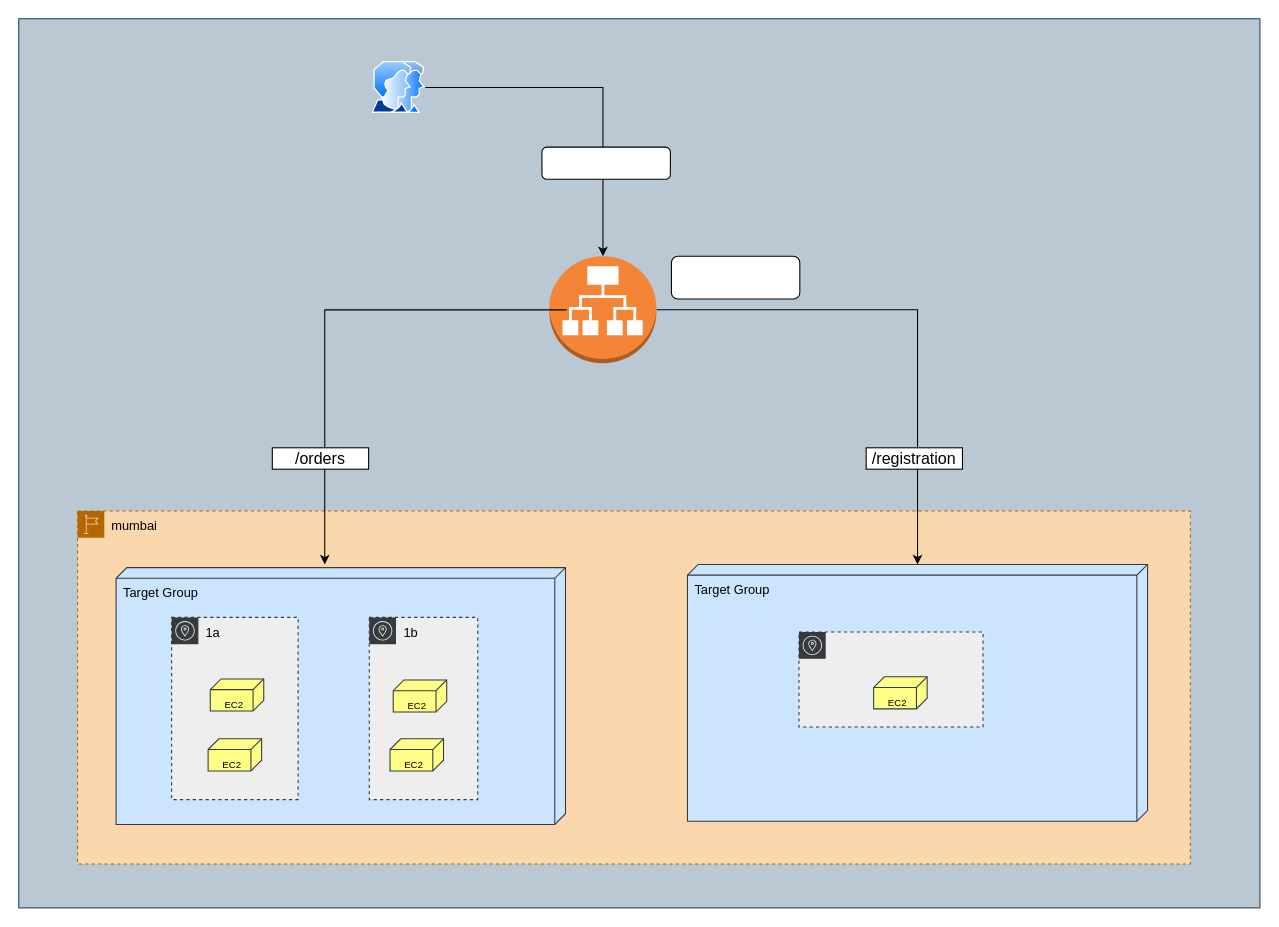
Image size: 1279x927. Some labels were removed from this diagram. Each missing label, with the centre of its shape:
1c: the point at 890,679
http://www.xyz.com: the point at 605,162
Load Balancer Application Layer: the point at 735,277
